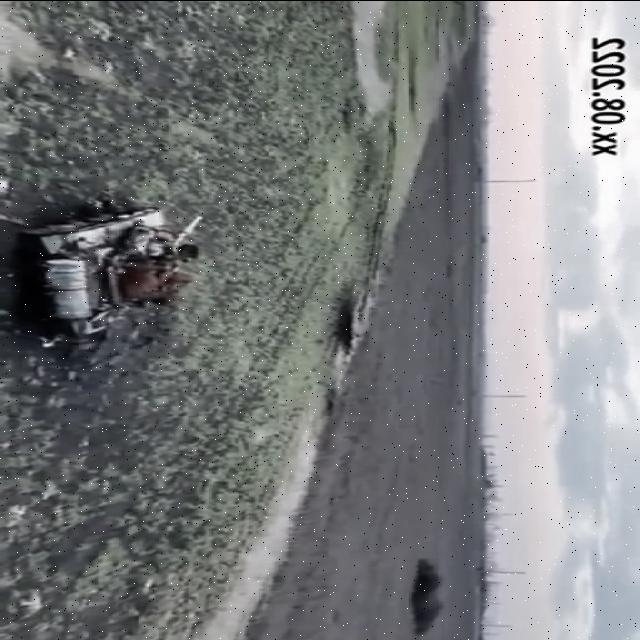TANK: (18, 204, 209, 338)
